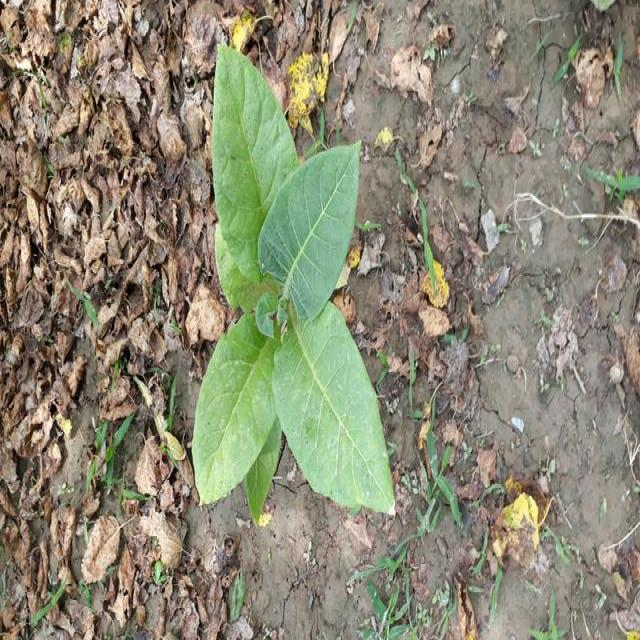crop: (194, 44, 400, 528)
